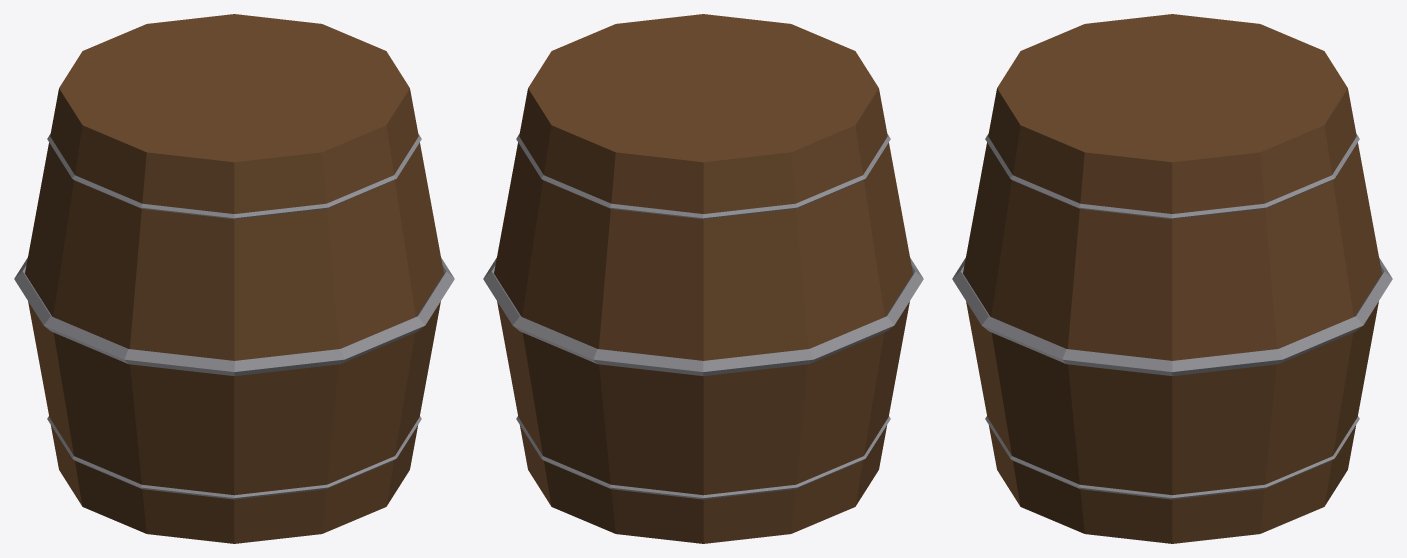
Rendered from powder_keg.glb.
The picture shows the model from 3 angles, left to right: view 1: azimuth 30°, elevation 25°; view 2: azimuth 150°, elevation 25°; view 3: azimuth 270°, elevation 25°; orthographic projection.
Visible parts, largest first — view 1: Powder_Keg; view 2: Powder_Keg; view 3: Powder_Keg.
Boxes of the visible parts, x1,y1,x2,y2 form: Powder_Keg: (14, 14, 454, 543); Powder_Keg: (483, 14, 923, 543); Powder_Keg: (952, 14, 1392, 543).
Bounding box in the file's own units: 0.628 × 0.6 × 0.628.
2 materials, 1 textured.
